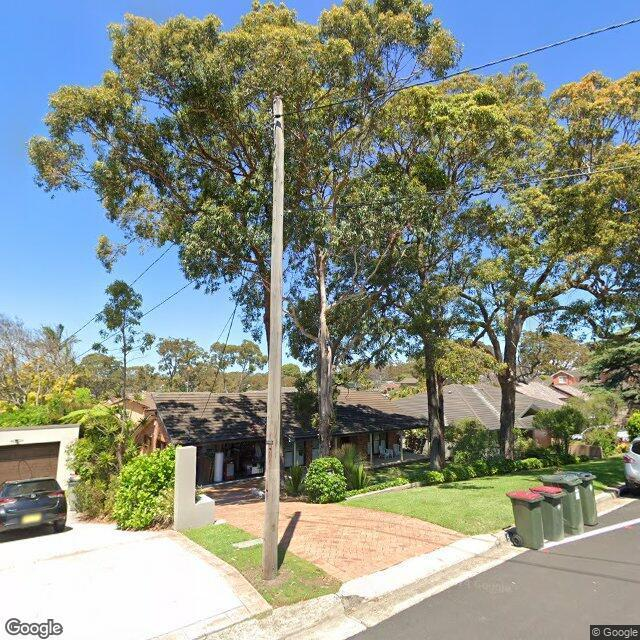timber-pole: (262, 94, 284, 580)
